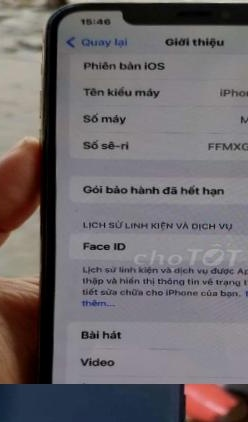scratch: (159, 403, 182, 422)
